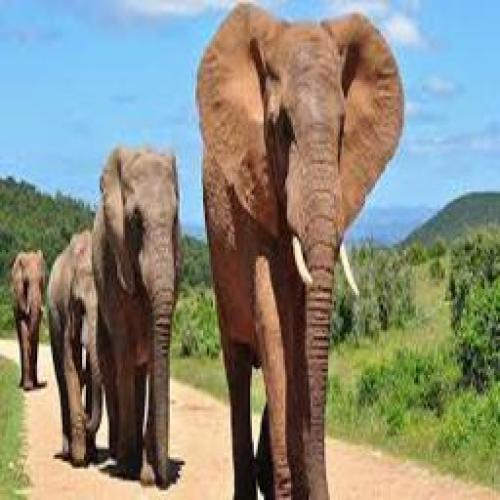african_elephant-endangered: (195, 0, 405, 500), (85, 145, 183, 484), (45, 230, 113, 461), (8, 247, 52, 391)
